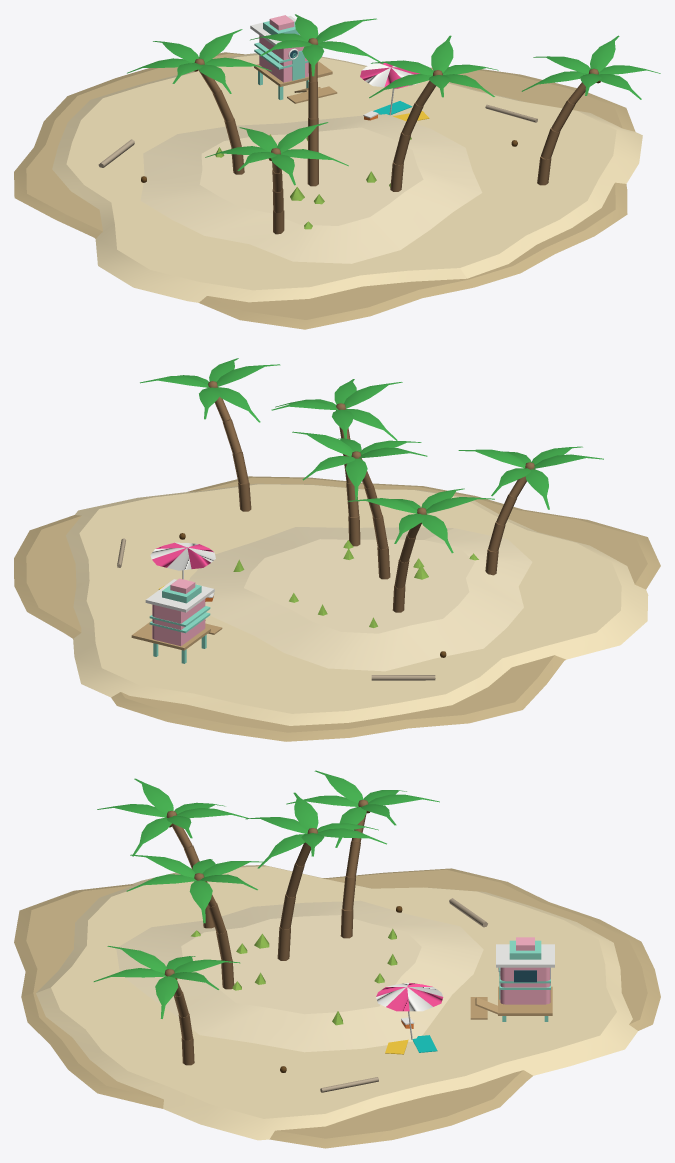
The model's file is palm-key.glb.
3 renders of one model, top to bottom at view 1: azimuth 30°, elevation 25°; view 2: azimuth 150°, elevation 25°; view 3: azimuth 270°, elevation 25°, orthographic. The views are drawn at different scales.
Visible parts, largest first — view 1: Mesh_Sand, Mesh_Dune, Mesh_SandWet, Mesh_HutBody, Mesh_Frond2_0Under, Mesh_Frond4_0Under, Mesh_Frond1_0Under, Mesh_Frond3_0Under, Mesh_Frond0_0Under, Mesh_HutFloor; view 2: Mesh_Sand, Mesh_Dune, Mesh_SandWet, Mesh_HutBody, Mesh_HutRoof, Mesh_HutFloor; view 3: Mesh_Sand, Mesh_Dune, Mesh_SandWet, Mesh_HutFront, Mesh_HutRoof, Mesh_HutFloor, Mesh_Frond0_3Under, Mesh_Frond3_3Under, Mesh_Frond1_3Under.
Boxes of the visible parts, x1,y1,x2,y2 form: Mesh_Sand: [52, 53, 642, 302]; Mesh_Dune: [140, 114, 482, 263]; Mesh_SandWet: [14, 52, 635, 329]; Mesh_HutBody: [259, 35, 308, 82]; Mesh_Frond2_0Under: [431, 35, 453, 72]; Mesh_Frond4_0Under: [590, 35, 619, 72]; Mesh_Frond1_0Under: [199, 29, 242, 62]; Mesh_Frond3_0Under: [276, 122, 328, 152]; Mesh_Frond0_0Under: [316, 18, 376, 43]; Mesh_HutFloor: [254, 61, 332, 86]; Mesh_Sand: [66, 483, 648, 725]; Mesh_Dune: [189, 527, 532, 671]; Mesh_SandWet: [14, 476, 660, 741]; Mesh_HutBody: [154, 599, 205, 646]; Mesh_HutRoof: [145, 579, 214, 612]; Mesh_HutFloor: [131, 620, 210, 650]; Mesh_Sand: [36, 865, 637, 1140]; Mesh_Dune: [116, 900, 483, 1052]; Mesh_SandWet: [14, 868, 660, 1148]; Mesh_HutFront: [505, 967, 545, 1004]; Mesh_HutRoof: [496, 944, 554, 967]; Mesh_HutFloor: [498, 986, 552, 1015]; Mesh_Frond0_3Under: [293, 792, 318, 830]; Mesh_Frond3_3Under: [134, 778, 173, 813]; Mesh_Frond1_3Under: [314, 770, 363, 803].
Bounding box in the file's own units: 31.89 × 8.63 × 30.75.
